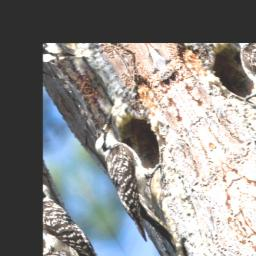Woodpecker: (74, 101, 205, 256)
